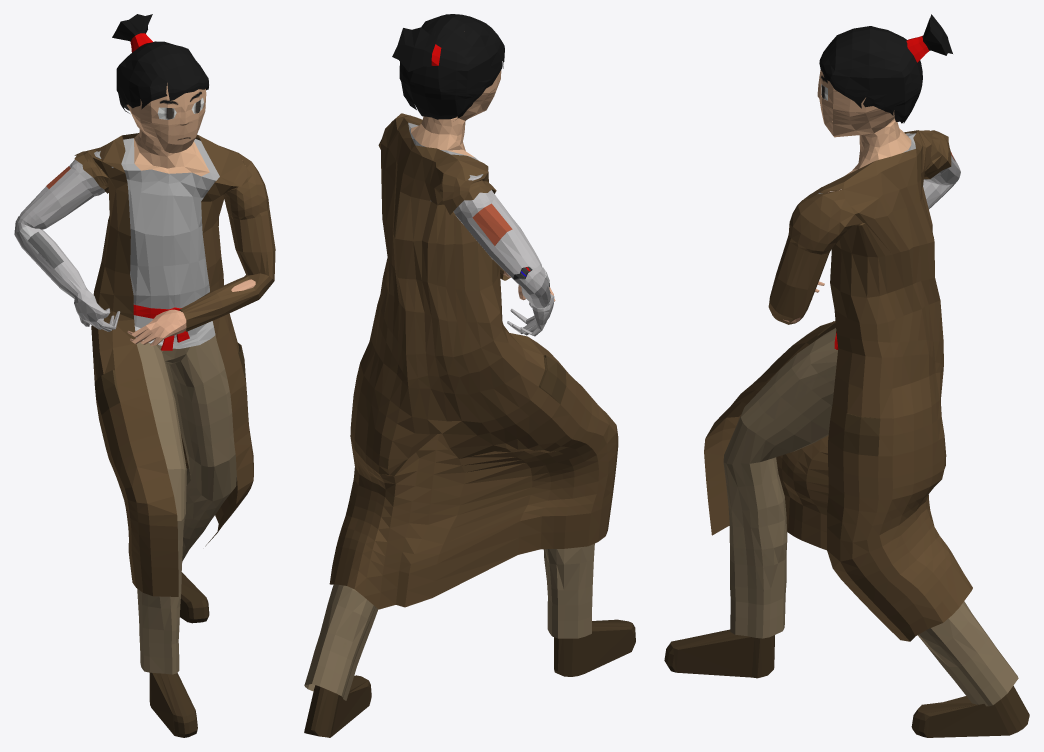
The model's file is One_Bash_000006.obj.
3 renders of one model, left to right at view 1: azimuth 30°, elevation 25°; view 2: azimuth 150°, elevation 25°; view 3: azimuth 270°, elevation 25°, orthographic. The views are drawn at different scales.
Parts seen in each view (by area): view 1: Hair_Cube.004; view 2: Hair_Cube.004; view 3: Hair_Cube.004.
Part boxes in pixels (left/top/right/bottom): Hair_Cube.004: left=14, top=14, right=275, bottom=737; Hair_Cube.004: left=304, top=14, right=635, bottom=737; Hair_Cube.004: left=664, top=14, right=1029, bottom=737.
Size of the model in its own units: 1.25 by 3.72 by 1.8.
